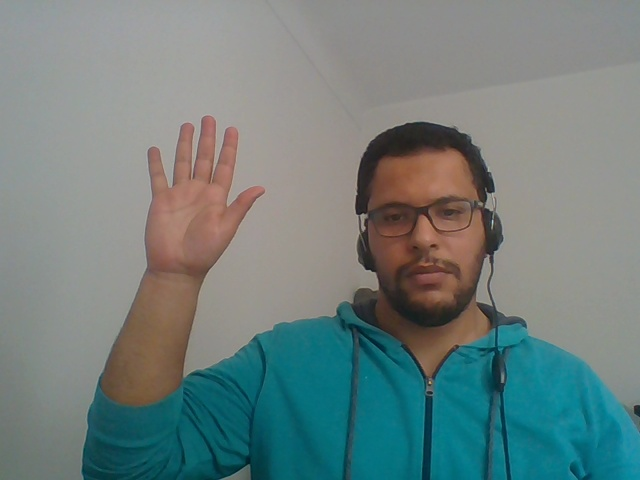hello: (105, 86, 278, 355)
